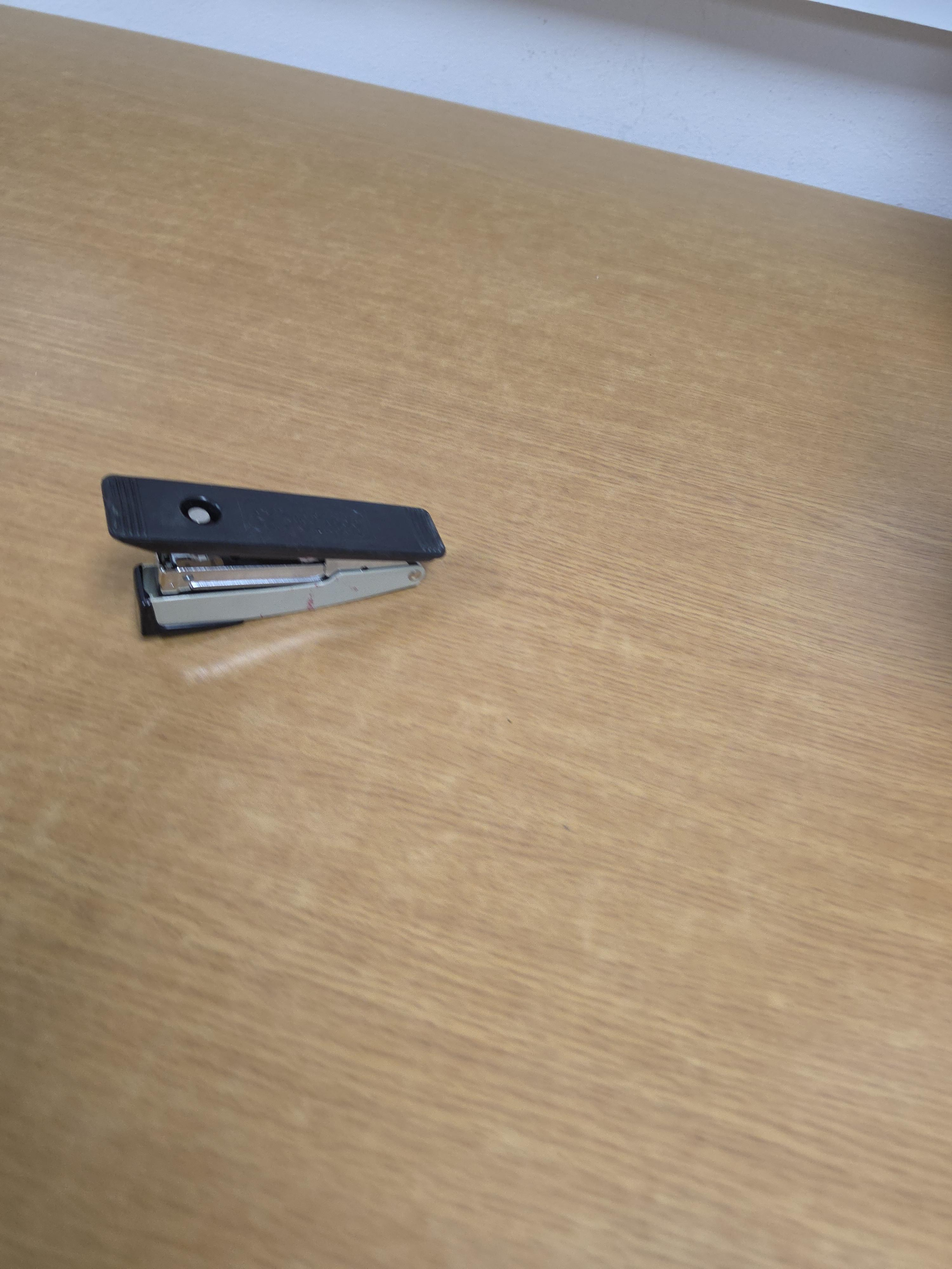stapler: (101, 474, 446, 638)
